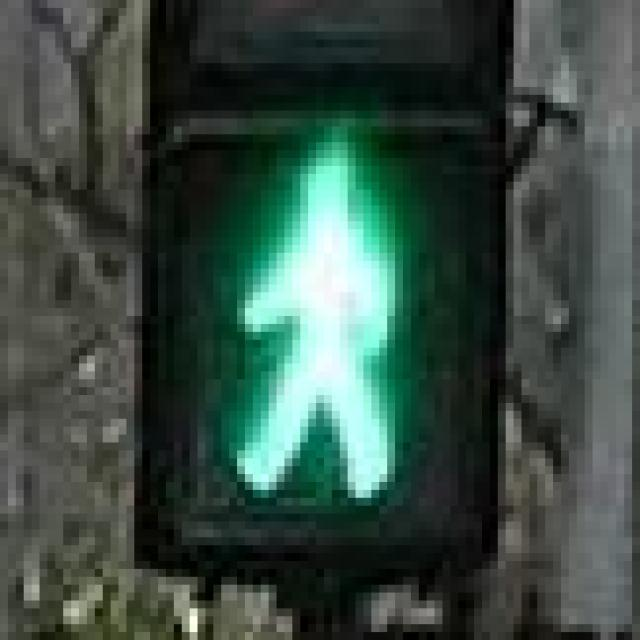green_light: (158, 94, 458, 522)
